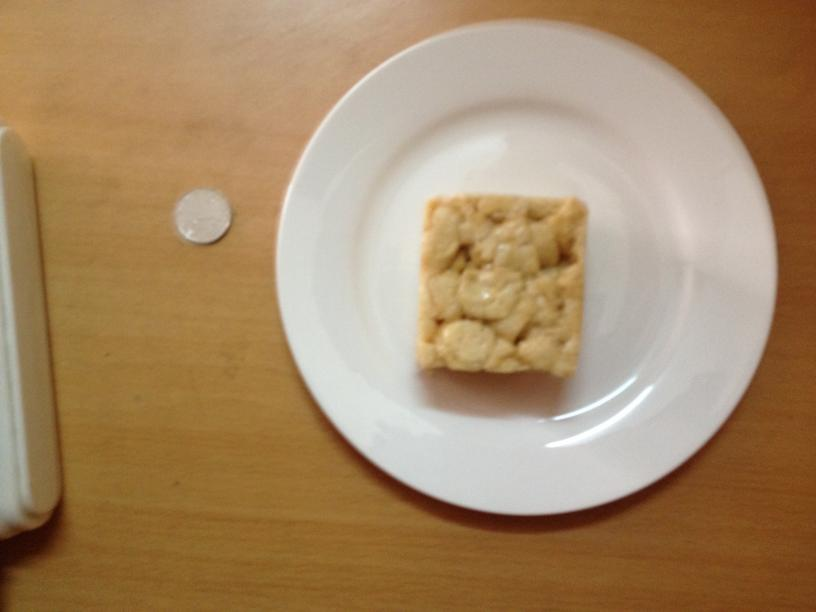coin: (172, 189, 230, 245)
sachima: (412, 192, 590, 380)
